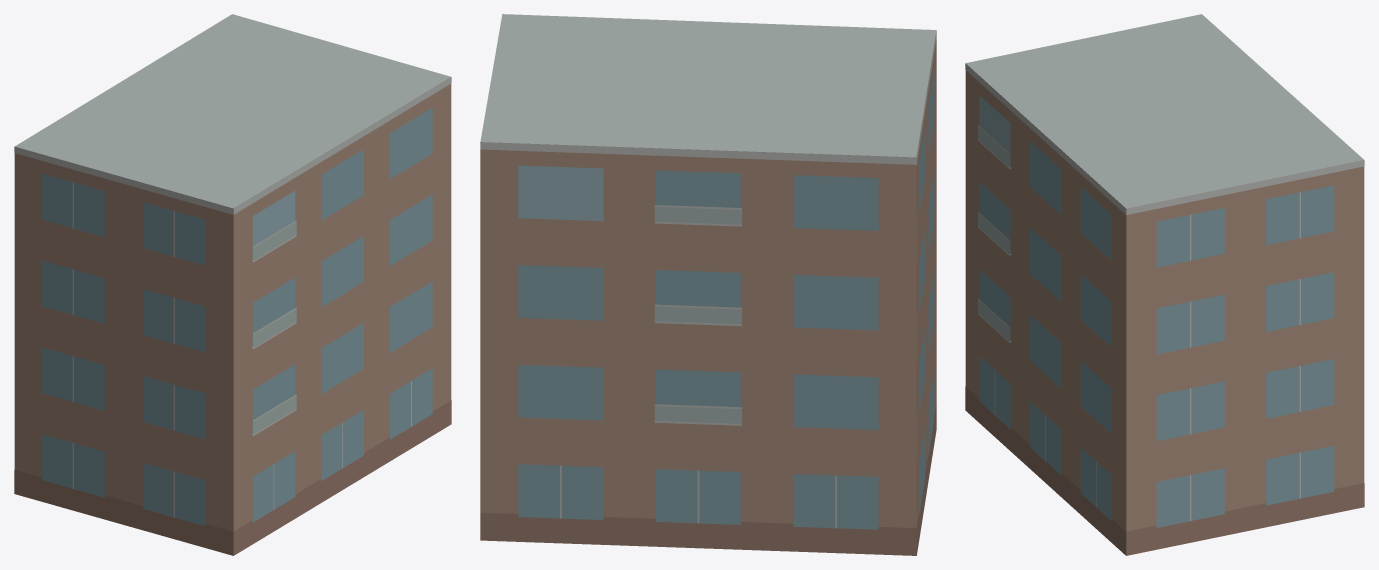
The model's file is survey-upis-32745167.glb.
3 views of the same model, side by side, from view 1: azimuth 30°, elevation 25°; view 2: azimuth 150°, elevation 25°; view 3: azimuth 270°, elevation 25° (orthographic). The views are drawn at different scales.
Parts seen in each view (by area): view 1: survey-upis-32745167.tmp; view 2: survey-upis-32745167.tmp; view 3: survey-upis-32745167.tmp.
Part boxes in pixels (x1,y1,x2,y2): survey-upis-32745167.tmp: (14,14,451,555); survey-upis-32745167.tmp: (480,14,936,555); survey-upis-32745167.tmp: (965,14,1364,555).
Size of the model in its own units: 15.7 by 13.05 by 13.6.
